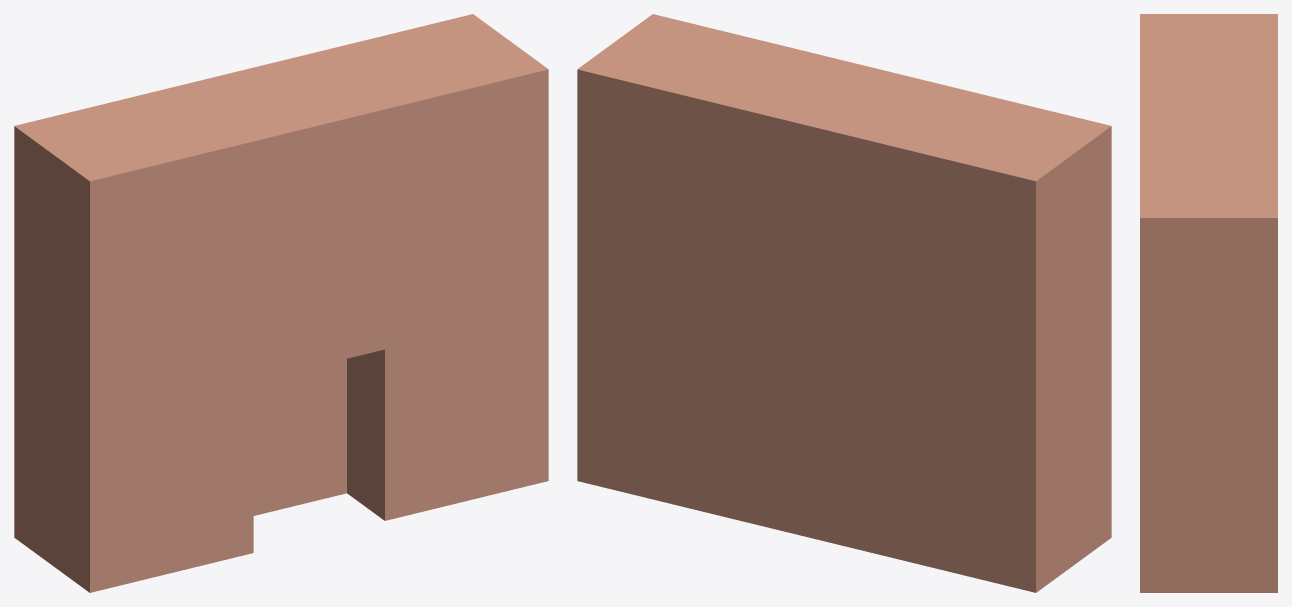
Rendered from petra_cut.glb.
3 views of the same model, side by side, from view 1: azimuth 30°, elevation 25°; view 2: azimuth 150°, elevation 25°; view 3: azimuth 270°, elevation 25° (orthographic). The views are drawn at different scales.
Parts seen in each view (by area): view 1: petra_cut; view 2: petra_cut; view 3: petra_cut.
Part boxes in pixels (bbox=[...]): petra_cut: bbox=[14, 14, 548, 592]; petra_cut: bbox=[577, 14, 1111, 592]; petra_cut: bbox=[1140, 14, 1277, 592].
Bounding box in the file's own units: 11.67 × 10 × 3.33.
